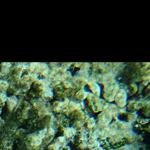dead: (4, 63, 146, 147)
